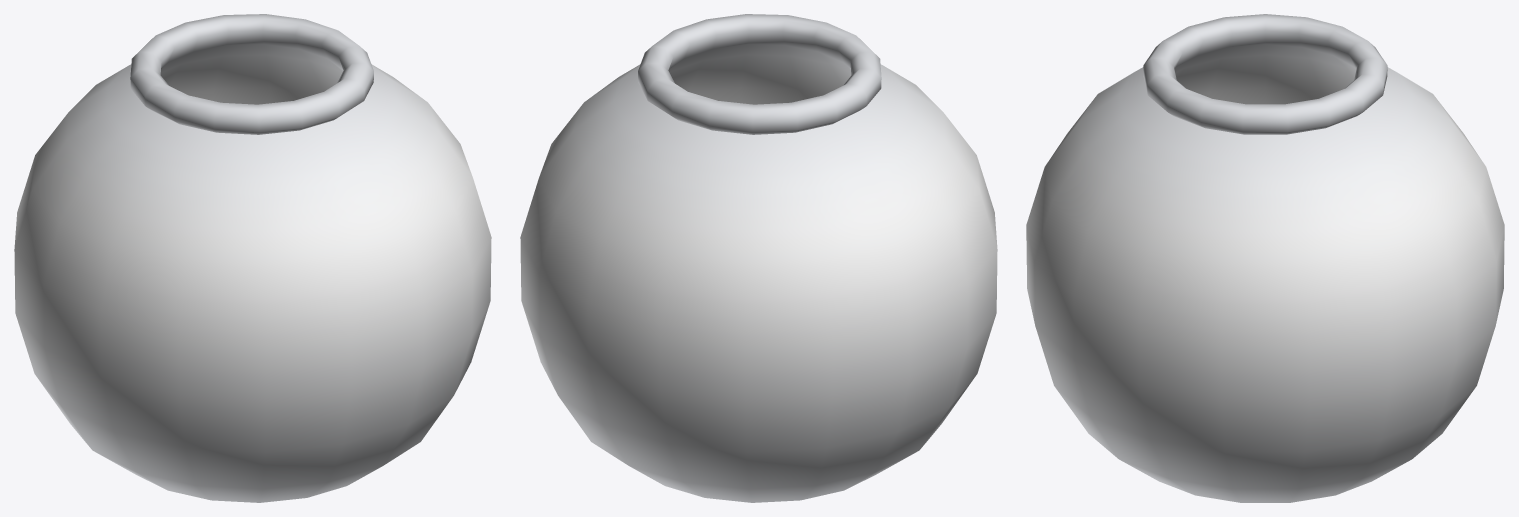
File: Vase_Spherical_Open_Lipped.fbx
The picture shows the model from 3 angles, left to right: view 1: azimuth 30°, elevation 25°; view 2: azimuth 150°, elevation 25°; view 3: azimuth 270°, elevation 25°; orthographic projection.
Parts seen in each view (by area): view 1: Vase_Spherical_Open_Lipped; view 2: Vase_Spherical_Open_Lipped; view 3: Vase_Spherical_Open_Lipped.
Boxes of the visible parts, x1,y1,x2,y2 form: Vase_Spherical_Open_Lipped: (14, 14, 491, 502); Vase_Spherical_Open_Lipped: (520, 14, 997, 502); Vase_Spherical_Open_Lipped: (1026, 14, 1504, 502).
Size of the model in its own units: 126 by 118 by 127.
